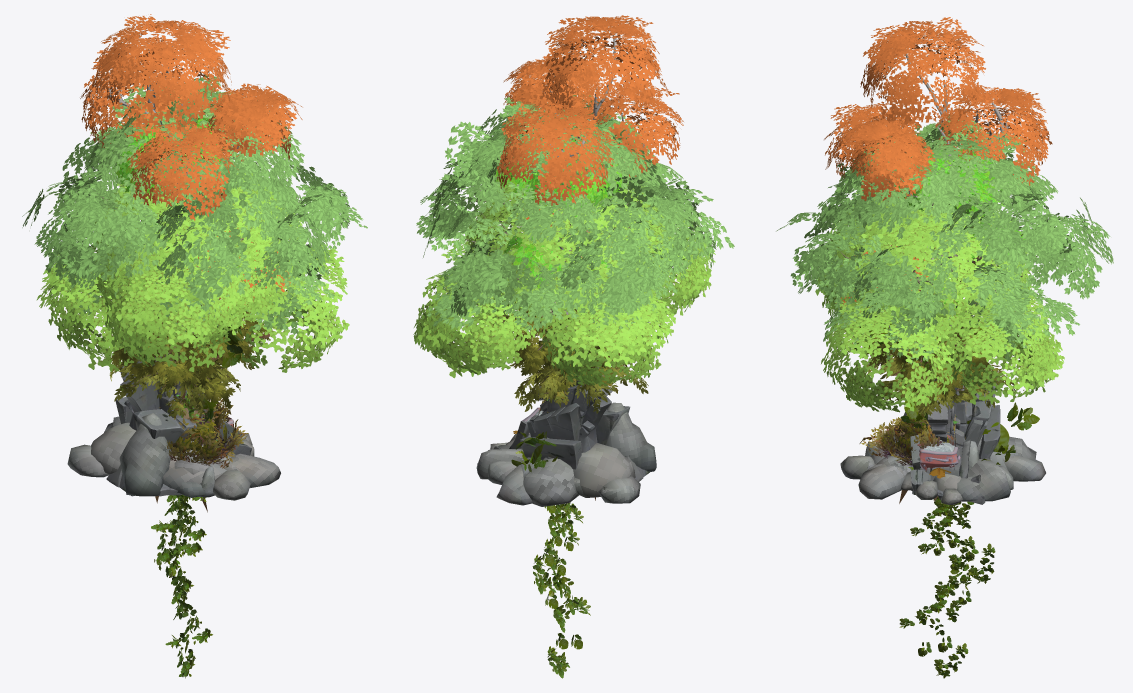
The model's file is scenery.glb.
3 renders of one model, left to right at view 1: azimuth 30°, elevation 25°; view 2: azimuth 150°, elevation 25°; view 3: azimuth 270°, elevation 25°, orthographic. The views are drawn at different scales.
Parts seen in each view (by area): view 1: SM_StW_Tree_Rubber01, SM_StW_Tree_Medium, BirchTree_Large, SM_Props_RockPile01, SM_StW_Tree_Sapling03_a, SM_SinkHole_Shrub_03, SM_TRV_SWP_Plant_04A_TP, SM_StW_Tree_Sapling02_b, SM_Props_RockPile05, StoneLarge_03, StoneLarge_04, SM_StW_Tree_Birch01 (+4 smaller); view 2: SM_StW_Tree_Rubber01, SM_StW_Tree_Medium, BirchTree_Large, SM_Props_RockPile01, StoneLarge_04, SM_SinkHole_Shrub_03, SM_StW_Tree_Birch01, SM_StW_Tree_Sapling02_b, SM_StW_Tree_Sapling03_a, StoneLarge_03, SM_Props_RockPile05, SM_SinkHole_Shrub_02 (+4 smaller); view 3: SM_StW_Tree_Rubber01, SM_StW_Tree_Medium, BirchTree_Large, SM_Props_RockPile01, SM_SinkHole_Shrub_03, SM_TRV_SWP_Plant_04A_TP, SM_StW_Tree_Sapling03_a, SM_SinkHole_Shrub_01, SM_Props_RockPile05, SM_StW_Tree_Birch01, StoneLarge_04, SM_Props_RockPile02 (+6 smaller).
Part boxes in pixels (box(x1,y1,x2,y2)): SM_StW_Tree_Rubber01: box(22, 75, 367, 335); SM_StW_Tree_Medium: box(36, 162, 349, 512); BirchTree_Large: box(80, 14, 302, 309); SM_Props_RockPile01: box(67, 413, 280, 497); SM_StW_Tree_Sapling03_a: box(110, 298, 269, 410); SM_SinkHole_Shrub_03: box(151, 495, 212, 678); SM_TRV_SWP_Plant_04A_TP: box(159, 398, 248, 468); SM_StW_Tree_Sapling02_b: box(109, 337, 260, 417); SM_Props_RockPile05: box(163, 454, 250, 500); StoneLarge_03: box(120, 353, 251, 455); StoneLarge_04: box(115, 366, 208, 447); SM_StW_Tree_Birch01: box(107, 117, 240, 347); SM_StW_Tree_Rubber01: box(416, 95, 734, 331); SM_StW_Tree_Medium: box(413, 164, 715, 500); BirchTree_Large: box(496, 15, 683, 257); SM_Props_RockPile01: box(476, 402, 656, 506); StoneLarge_04: box(520, 403, 630, 469); SM_SinkHole_Shrub_03: box(532, 503, 590, 678); SM_StW_Tree_Birch01: box(495, 138, 626, 314); SM_StW_Tree_Sapling02_b: box(509, 309, 648, 413); SM_StW_Tree_Sapling03_a: box(493, 309, 652, 395); StoneLarge_03: box(549, 367, 612, 452); SM_Props_RockPile05: box(496, 465, 583, 505); SM_SinkHole_Shrub_02: box(544, 502, 583, 570); SM_StW_Tree_Rubber01: box(776, 115, 1113, 368); SM_StW_Tree_Medium: box(815, 186, 1064, 503); BirchTree_Large: box(824, 17, 1052, 392); SM_Props_RockPile01: box(858, 412, 1036, 505); SM_SinkHole_Shrub_03: box(899, 500, 995, 678); SM_TRV_SWP_Plant_04A_TP: box(859, 414, 965, 465); SM_StW_Tree_Sapling03_a: box(852, 319, 1012, 408); SM_SinkHole_Shrub_01: box(844, 308, 1039, 470); SM_Props_RockPile05: box(840, 446, 1045, 481); SM_StW_Tree_Birch01: box(898, 147, 1027, 326); StoneLarge_04: box(919, 380, 1000, 459); SM_Props_RockPile02: box(865, 441, 1013, 499).
Size of the model in its own units: 2.49 by 5.18 by 2.58.
36 materials, 36 textured.
